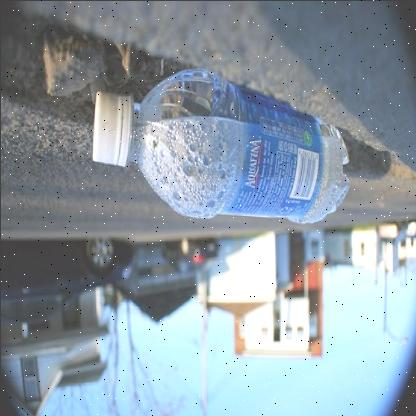Plastic Bottle: (92, 67, 348, 222)
